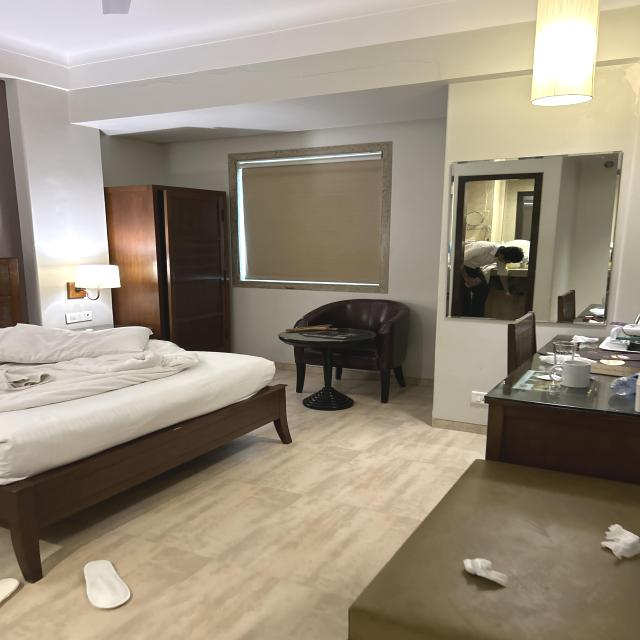mess: (0, 300, 332, 520), (446, 312, 640, 631), (0, 550, 215, 630)
